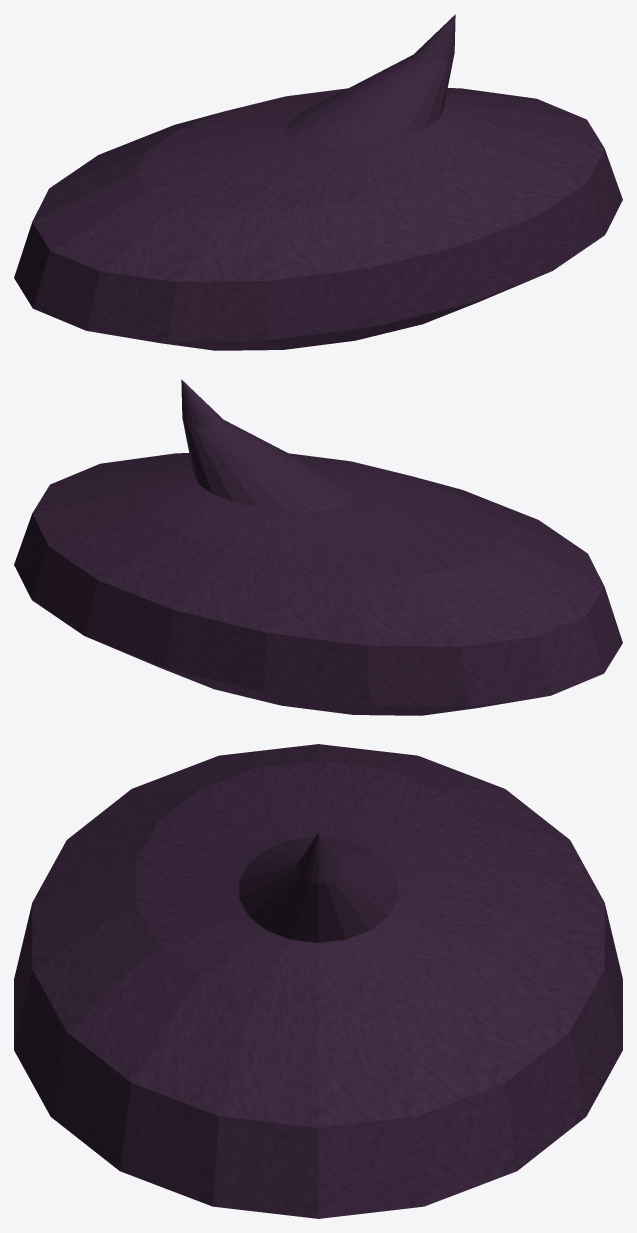
The model's file is yukkuri_waste.obj.
3 renders of one model, top to bottom at view 1: azimuth 30°, elevation 25°; view 2: azimuth 150°, elevation 25°; view 3: azimuth 270°, elevation 25°, orthographic. The views are drawn at different scales.
Visible parts, largest first — view 1: yukkuri_waste; view 2: yukkuri_waste; view 3: yukkuri_waste.
Part boxes in pixels (box(x1,y1,x2,y2)): yukkuri_waste: box(14, 14, 622, 350); yukkuri_waste: box(14, 379, 622, 715); yukkuri_waste: box(14, 744, 622, 1218).
Size of the model in its own units: 5 by 1.95 by 3.15.
1 material, 1 textured.
